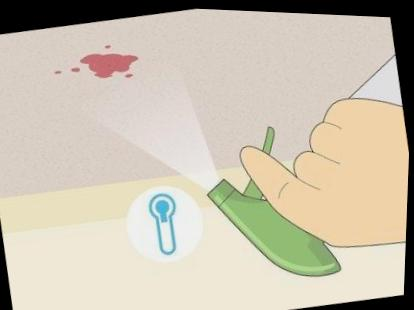Fire: (78, 52, 139, 78)
